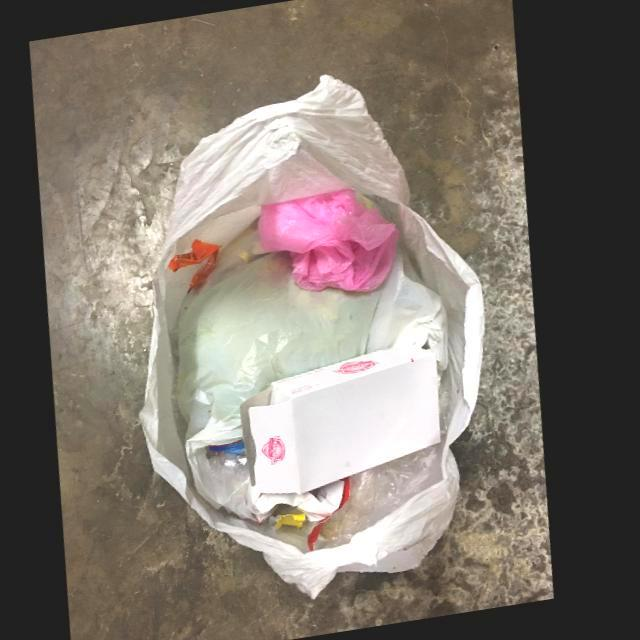cardboard: (256, 346, 449, 510)
food_wrapper: (173, 239, 226, 290)
paper: (261, 477, 357, 552)
plastic_bag: (183, 221, 459, 517), (258, 186, 402, 294), (325, 442, 450, 549)
